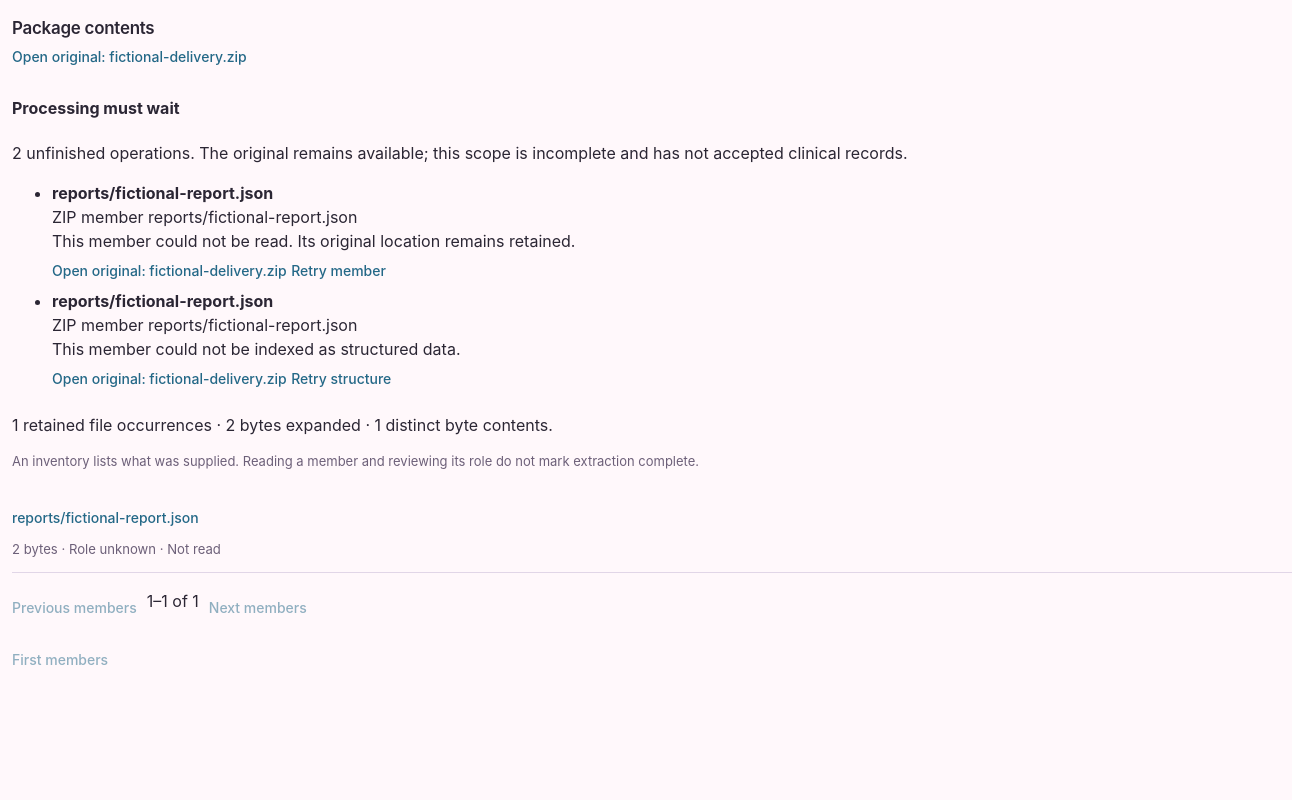
Test: posts the exact member retry, refreshes only that receipt, and posts a root pointer for a separate structure retry
Step 1. Click the button "Retry member" → (339, 271), box [291, 253, 386, 289]
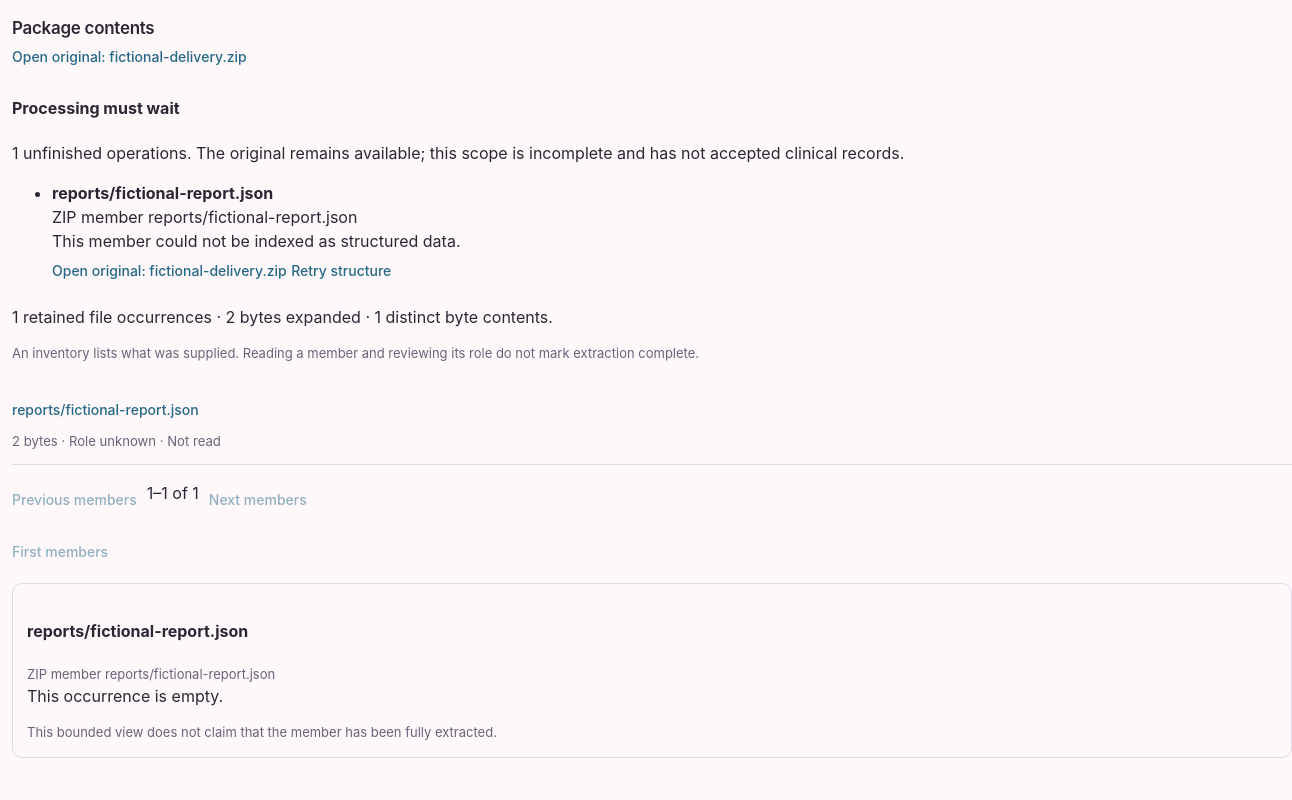
Expected: the text "This member could not be indexed as structured data." is shown, [52, 231, 460, 251]
Now the button "Retry member" is gone
Now the element named "Selected package member" is shown, box [12, 583, 1291, 758]
Step 2. Click the button "Retry structure" → (341, 271), box [291, 253, 391, 289]
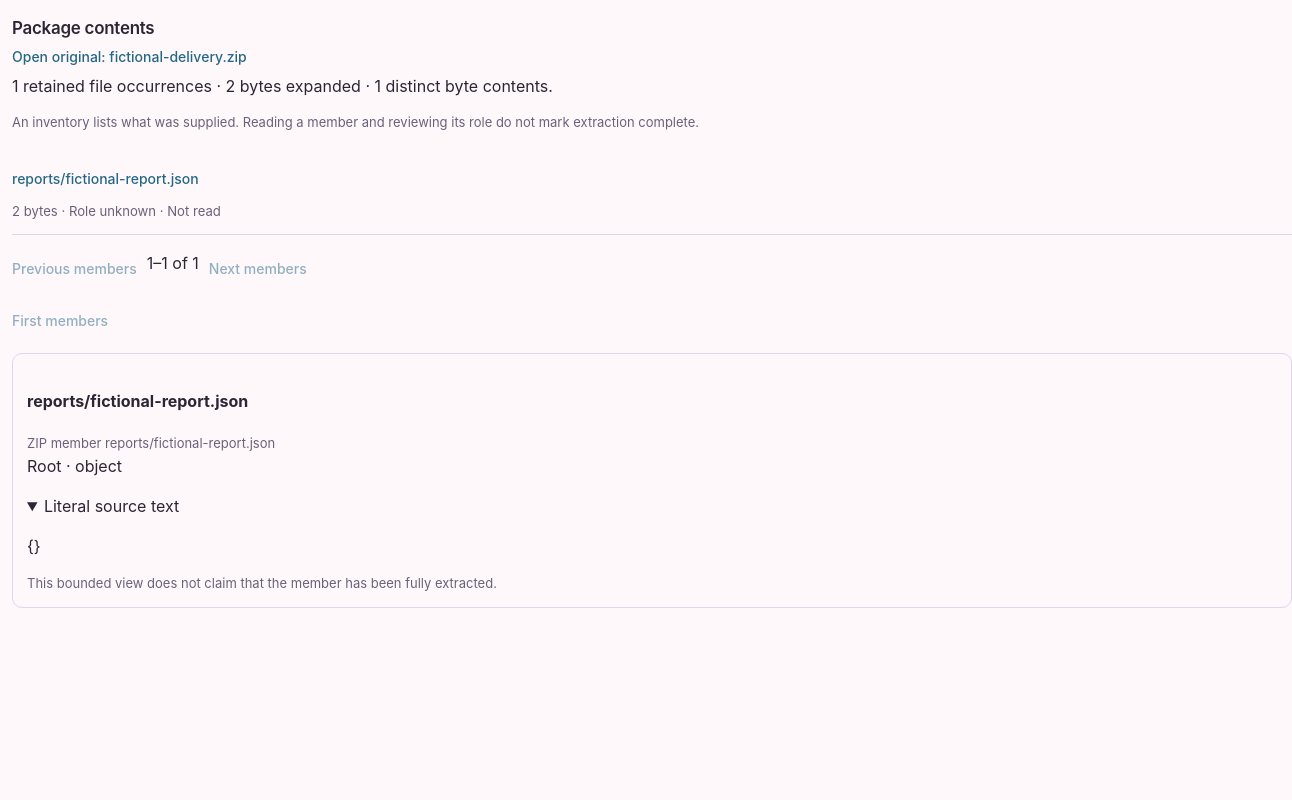
Now the text "{}" is shown, box [27, 536, 41, 556]
